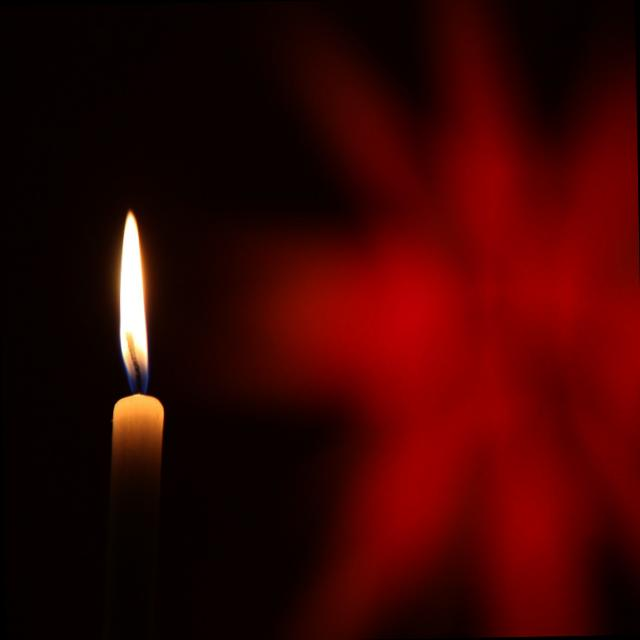Fire_Save: (94, 206, 169, 640), (116, 207, 150, 394)
